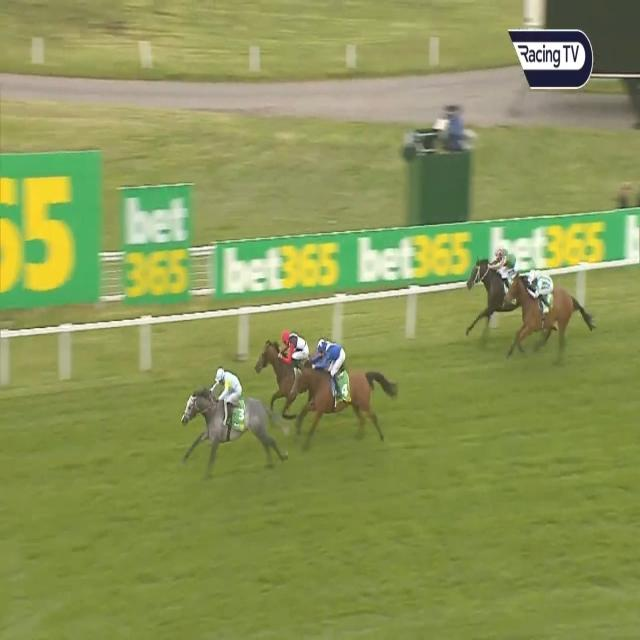horses-racing: (181, 361, 272, 481), (296, 324, 381, 443), (499, 257, 589, 359), (467, 238, 524, 334), (262, 329, 315, 410)
